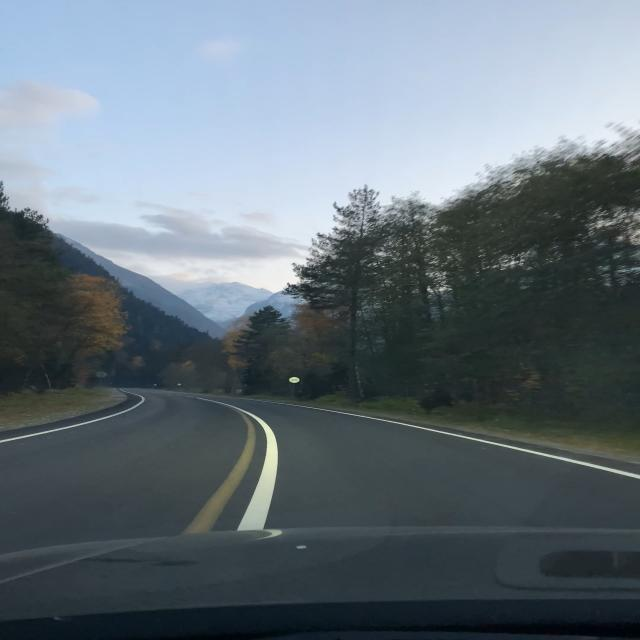asphalt: (0, 388, 640, 554), (550, 423, 560, 429)
grass: (244, 394, 640, 464), (0, 387, 123, 430)
